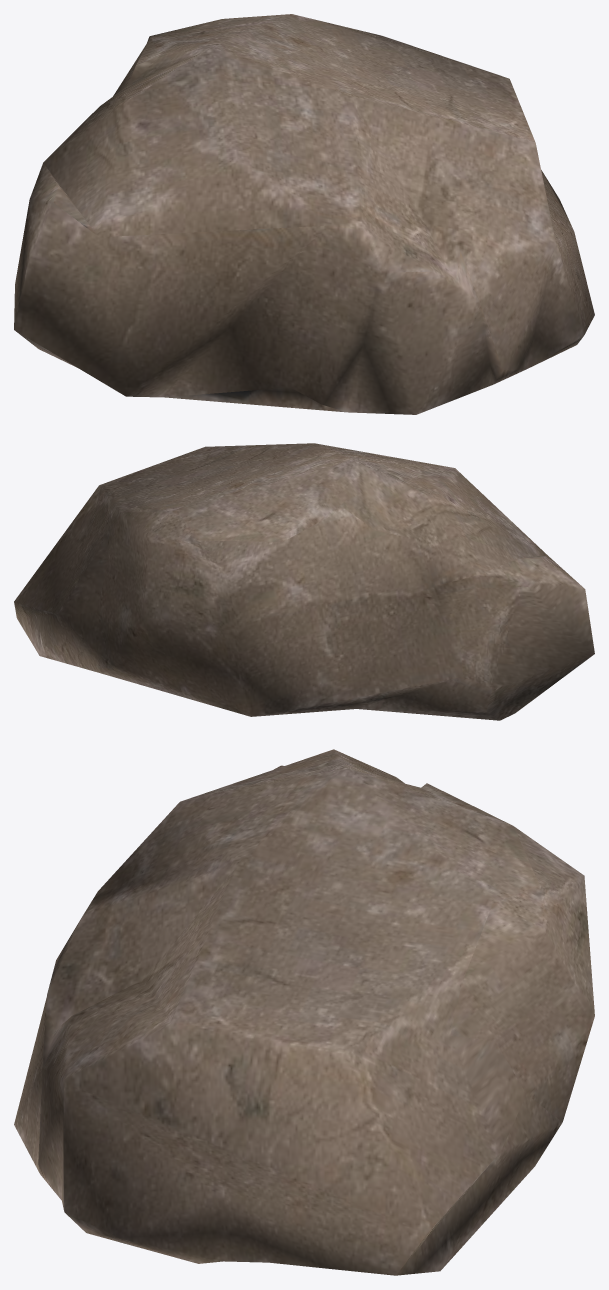
The model's file is rock_scan04.fbx.
3 views of the same model, one above another, from view 1: azimuth 30°, elevation 25°; view 2: azimuth 150°, elevation 25°; view 3: azimuth 270°, elevation 25° (orthographic). The views are drawn at different scales.
Visible parts, largest first — view 1: Rock04_LOD3; view 2: Rock04_LOD3; view 3: Rock04_LOD3.
Boxes of the visible parts, x1,y1,x2,y2 form: Rock04_LOD3: (14, 14, 594, 414); Rock04_LOD3: (14, 443, 594, 720); Rock04_LOD3: (14, 749, 594, 1275).
Size of the model in its own units: 223 by 99.46 by 159.
1 material, 1 textured.
